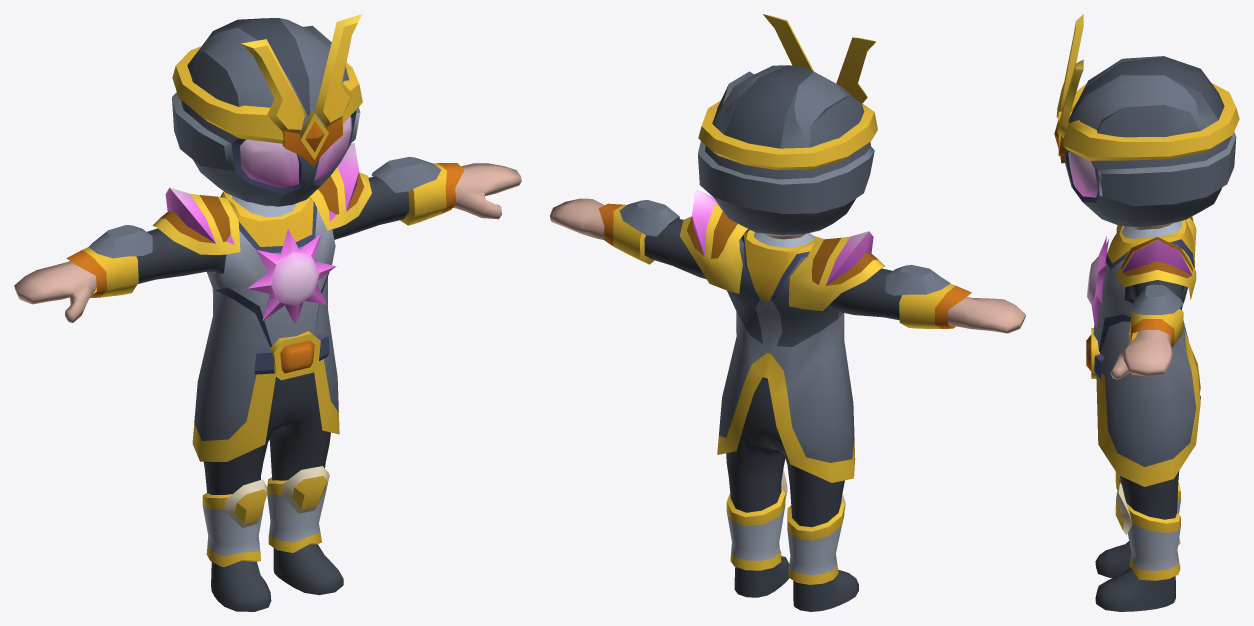
File: clo_t5_a5_lv11.fbx
3 views of the same model, side by side, from view 1: azimuth 30°, elevation 25°; view 2: azimuth 150°, elevation 25°; view 3: azimuth 270°, elevation 25° (orthographic). The views are drawn at different scales.
Parts seen in each view (by area): view 1: qa_t5_a5_lv11, body_lv11; view 2: qa_t5_a5_lv11, body_lv11; view 3: qa_t5_a5_lv11, body_lv11.
Part boxes in pixels (box(x1,y1,x2,y2)): qa_t5_a5_lv11: box(66, 14, 464, 611); body_lv11: box(14, 163, 521, 322); qa_t5_a5_lv11: box(598, 14, 971, 611); body_lv11: box(550, 198, 1025, 333); qa_t5_a5_lv11: box(1054, 14, 1239, 611); body_lv11: box(1110, 220, 1183, 379).
Size of the model in its own units: 1.76 by 1.94 by 0.6008.
